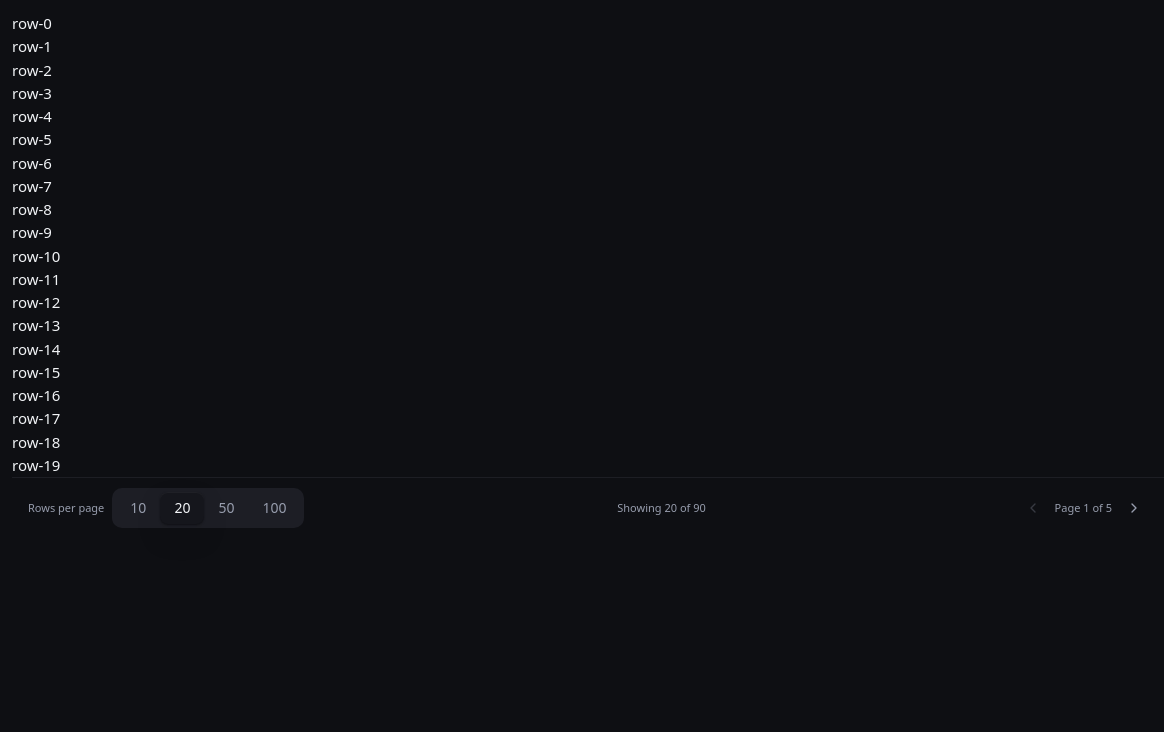
the caption is honest about what is on screen › counts the SHORT last page, not a full size-worth
Click the button named "Next page".
click(1134, 508)  # box 1120,494 -> 1148,522
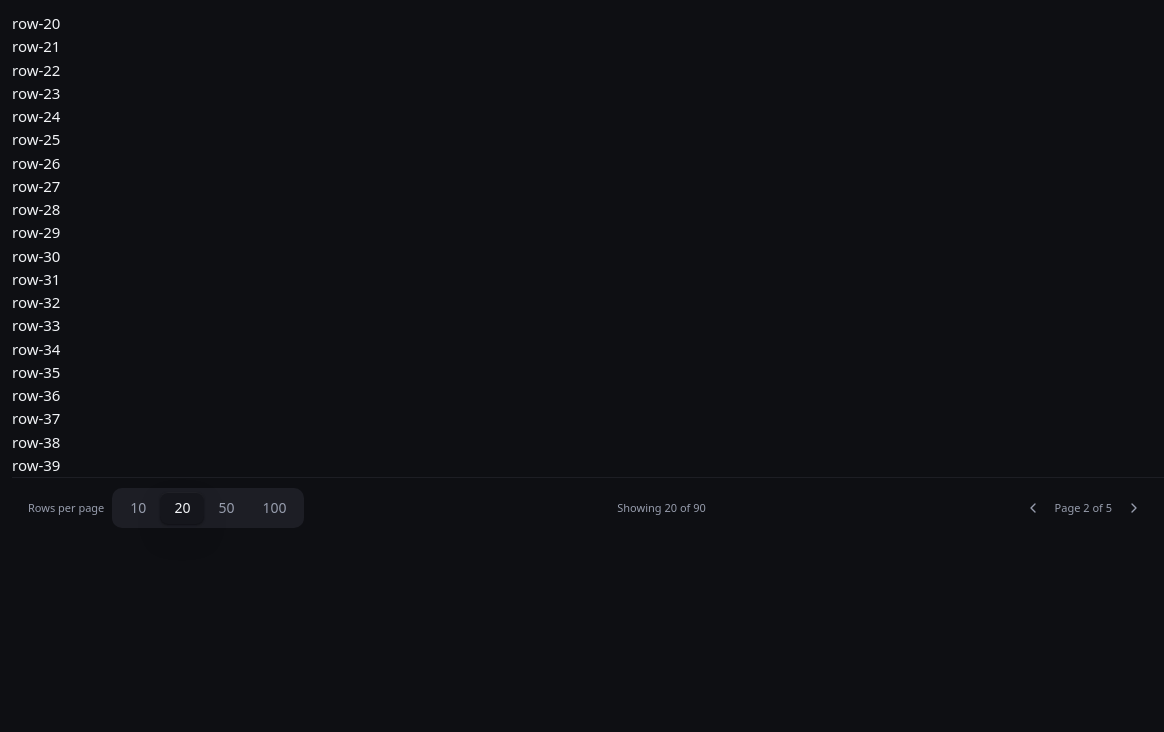
Click the button named "Next page".
click(1134, 508)  # box 1120,494 -> 1148,522
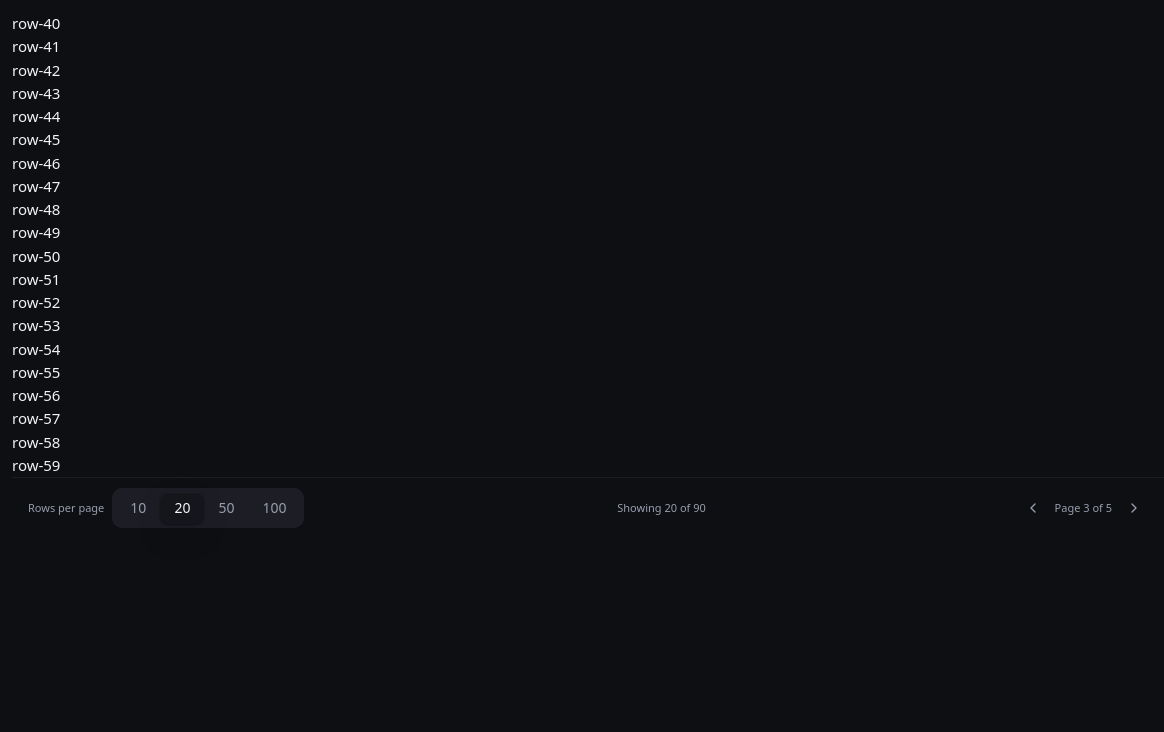
Click the button named "Next page".
click(1134, 508)  # box 1120,494 -> 1148,522
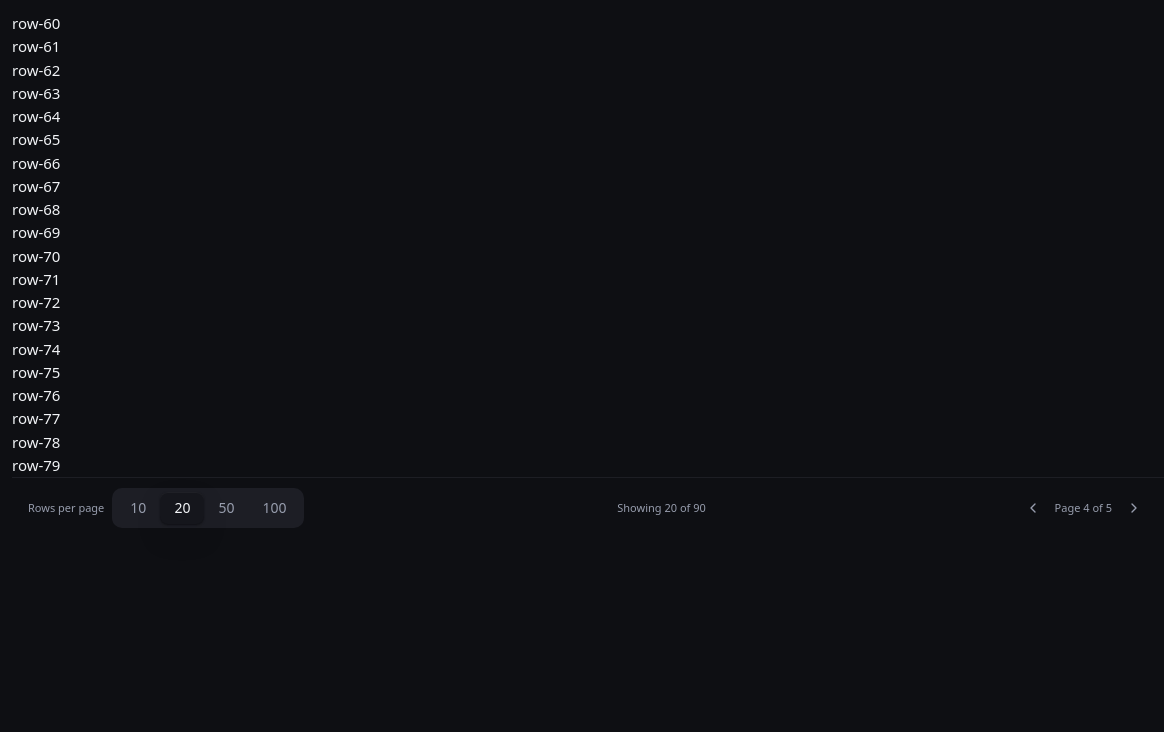
Click the button named "Next page".
click(1134, 508)  # box 1120,494 -> 1148,522
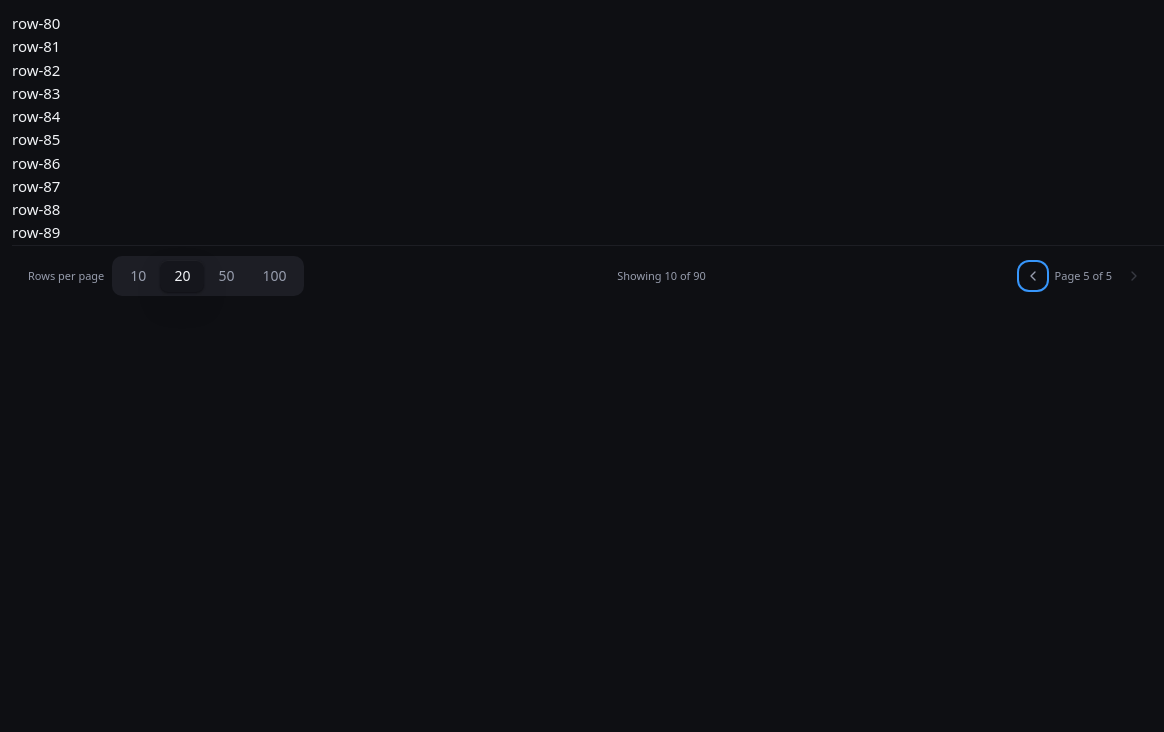
Expected: the text with test id "pager-showing" reads "Showing 10 of 90", 617,268 -> 706,283
